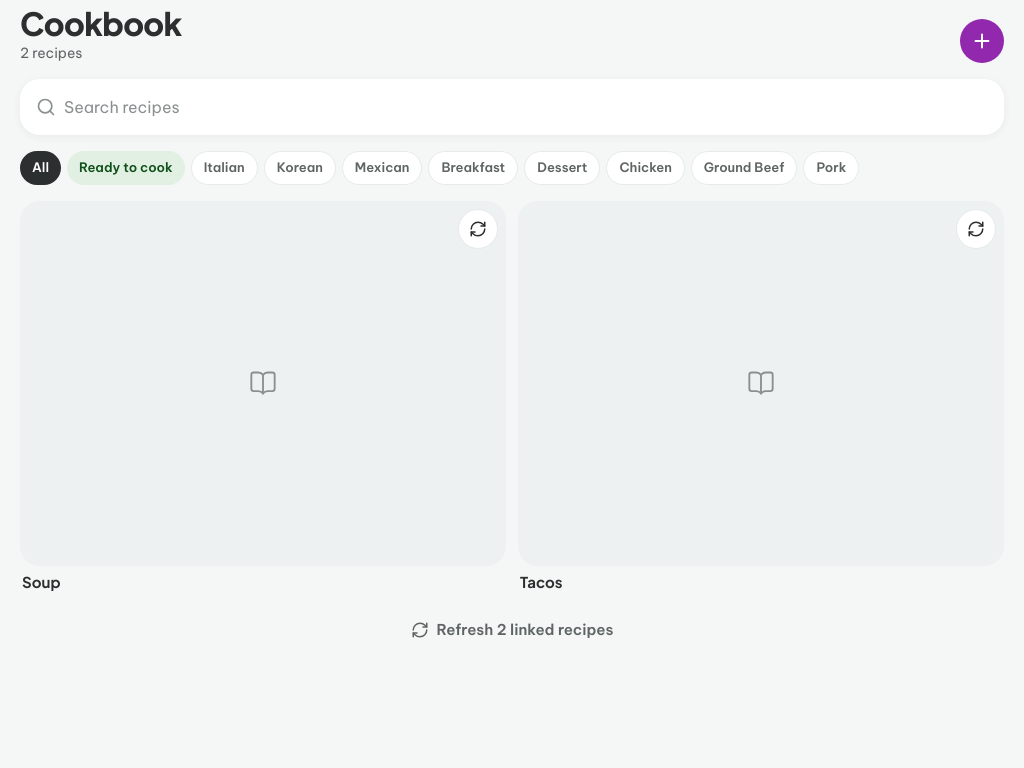
Test: CookbookPage bulk refresh › counts failures instead of claiming every recipe refreshed
This screenshot has width=1024, height=768.
Click the button "Refresh 2 linked recipes". click: click(512, 630)
box: x1=20 y1=608 x2=1004 y2=652
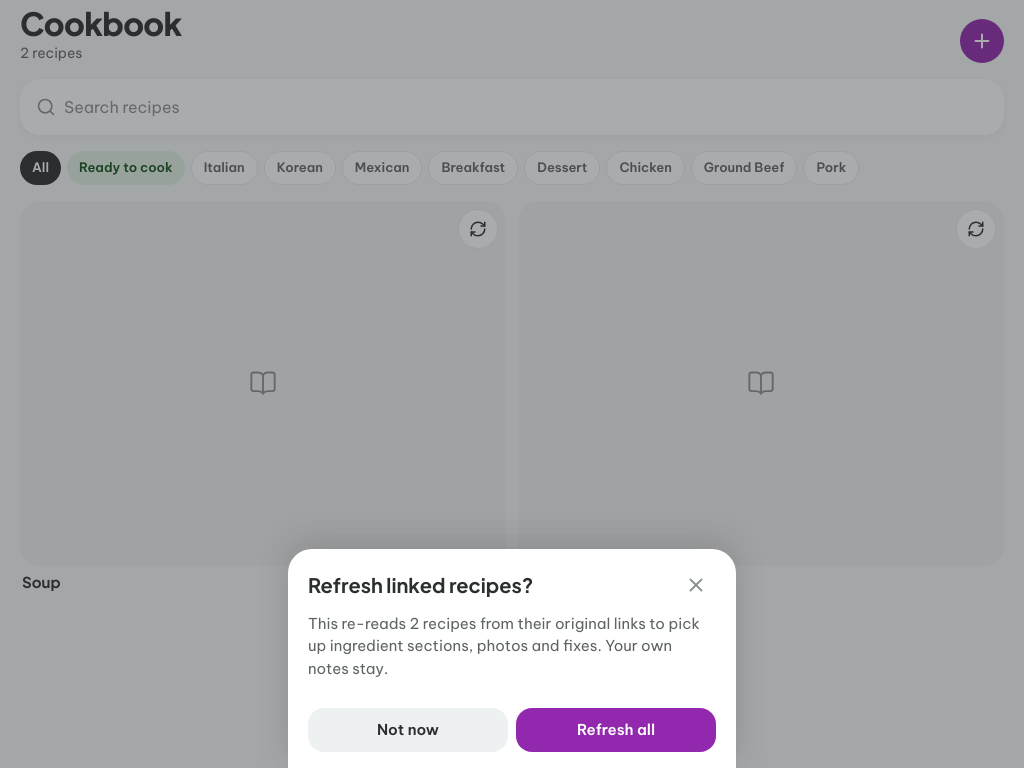
Click the button "Refresh all". click: click(616, 730)
box: x1=516 y1=708 x2=716 y2=752
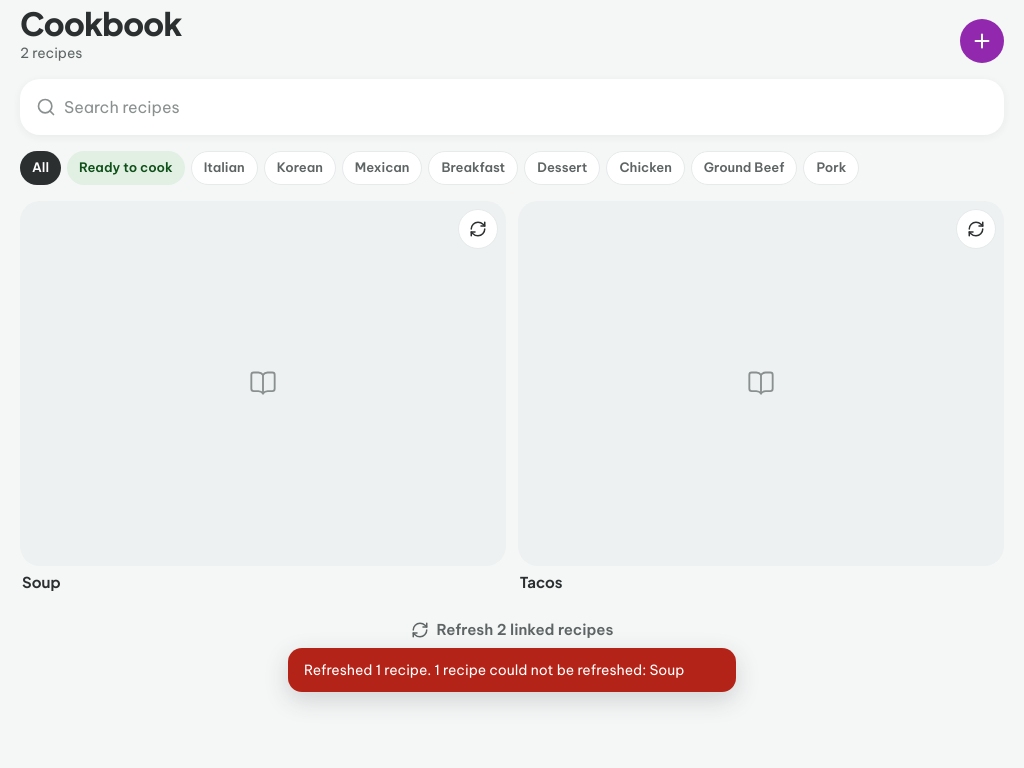
Expected: the text "Refreshed 1 recipe. 1 recipe could not be refreshed: Soup" is shown, x1=304 y1=660 x2=726 y2=680
